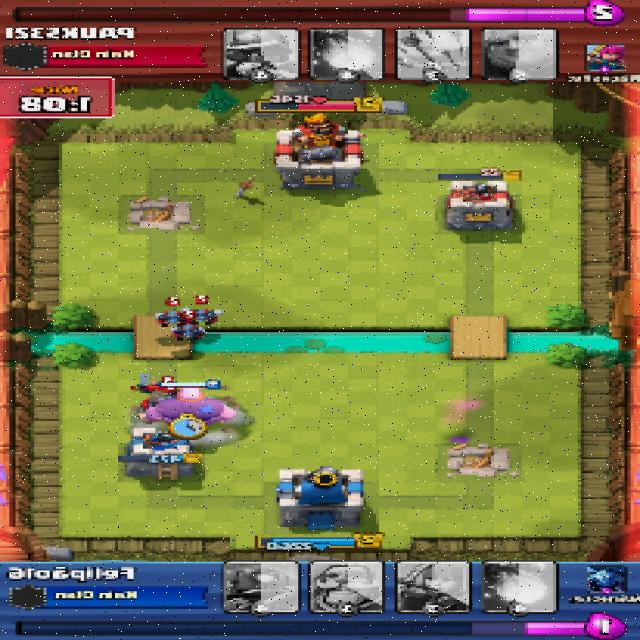Enemy-Knight: (134, 380, 189, 395)
Enemy-Minion: (169, 323, 207, 339), (191, 309, 216, 322), (157, 312, 182, 325)
Player-Giant: (139, 389, 239, 428)
